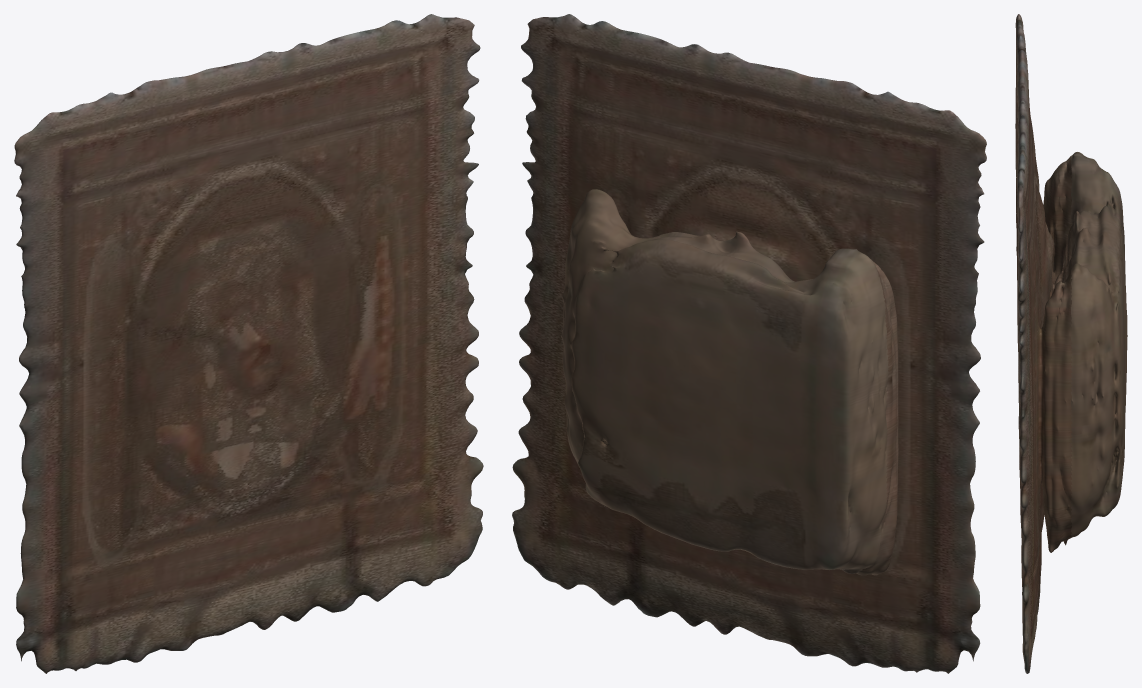
File: kfl-2309.glb
3 renders of one model, left to right at view 1: azimuth 30°, elevation 25°; view 2: azimuth 150°, elevation 25°; view 3: azimuth 270°, elevation 25°, orthographic. The views are drawn at different scales.
Parts seen in each view (by area): view 1: geometry_0; view 2: geometry_0; view 3: geometry_0.
Boxes of the visible parts, x1,y1,x2,y2 form: geometry_0: (14,14,483,673); geometry_0: (512,14,986,673); geometry_0: (1015,14,1127,673).
Bounding box in the file's own units: 0.838 × 0.9877 × 0.1983.
Materials: 1 (1 with a texture image).
